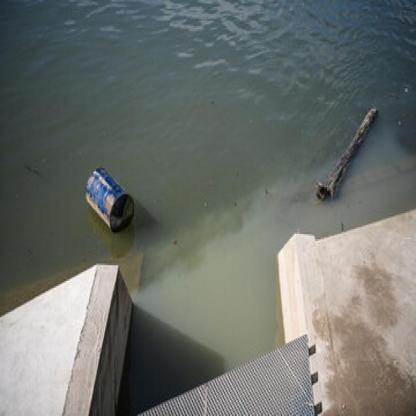can: (84, 168, 135, 232)
